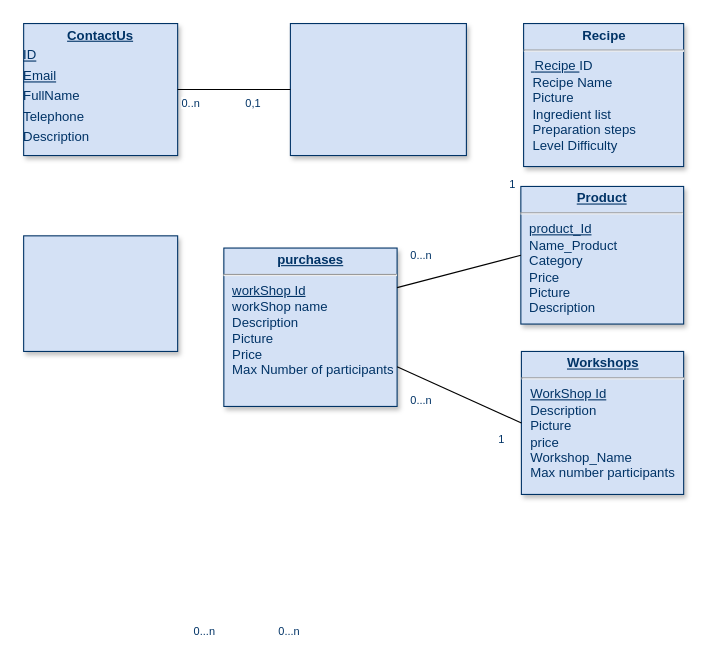
Image size: 710x668. Some labels were removed from this diagram. Each missing label, with the centre of its shape:
GiftCard GiftCard_Id Amount ReceiverName ReceiverEmail: (x=101, y=294)
User Email First Name Last Name Password: (x=379, y=90)
